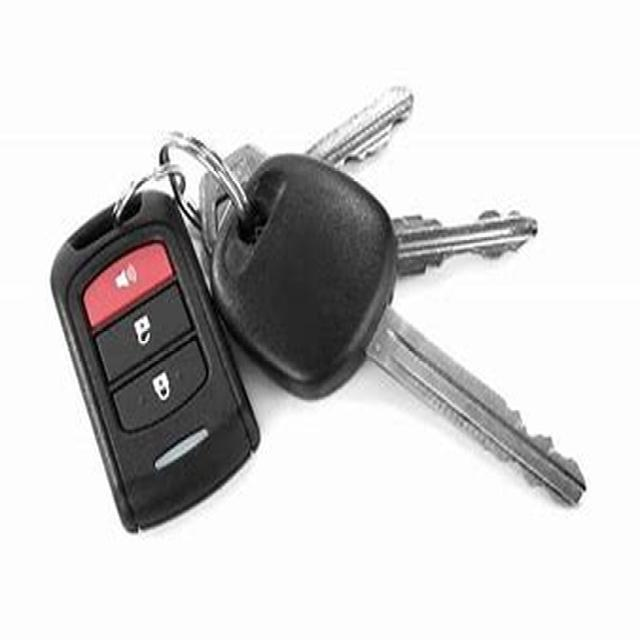key: (36, 66, 620, 575)
